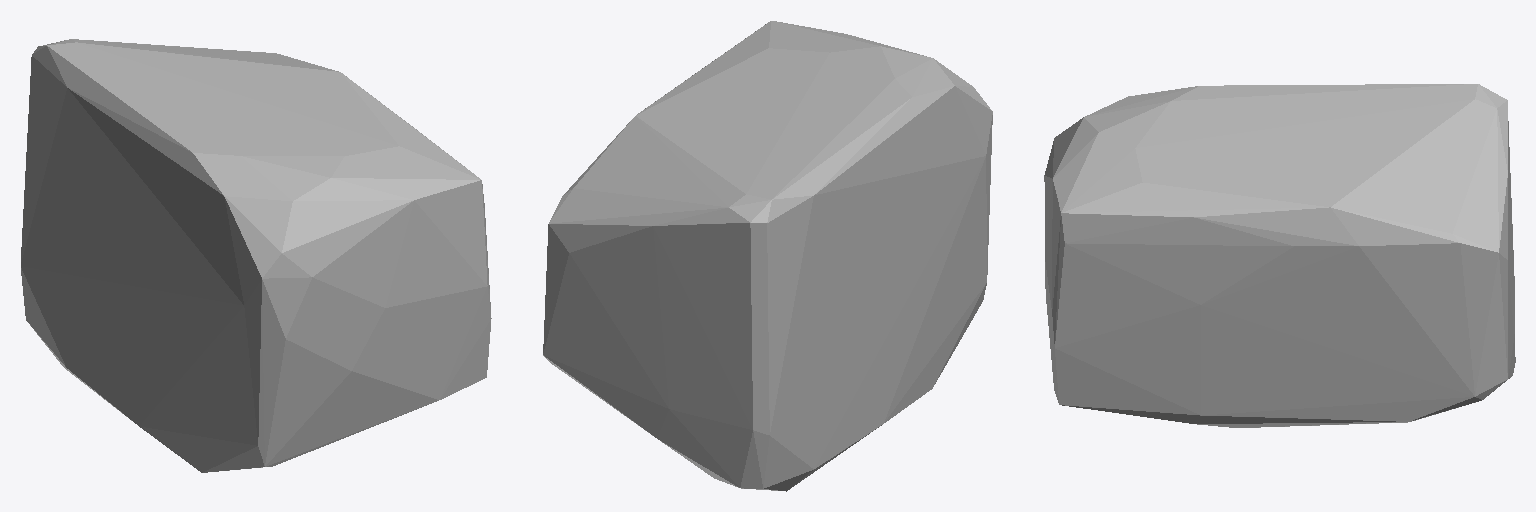
The robot description file, URDF, robot "root":
<robot name="root">
  <link name="link_rock2_convex_piece_0">
    <inertial>
      <origin rpy="0 0 0" xyz="0 0 0"/>
      <mass value="4.07E+06"/>
      <inertia ixx="2.23E+10" ixy="-9.84E+08" ixz="-1.16E+09" iyy="1.45E+10" iyz="1.47E+09" izz="2.29E+10"/>
    </inertial>
    <visual>
      <origin rpy="0 0 0" xyz="0 0 0"/>
      <geometry>
        <mesh filename="rock2_convex_piece_0.obj" scale="1.0000E+00 1.0000E+00 1.0000E+00"/>
      </geometry>
      <material name="">
        <color rgba="7.50E-01 7.50E-01 7.50E-01 1"/>
      </material>
    </visual>
    <collision>
      <origin rpy="0 0 0" xyz="0 0 0"/>
      <geometry>
        <mesh filename="rock2_convex_piece_0.obj" scale="1.0000E+00 1.0000E+00 1.0000E+00"/>
      </geometry>
    </collision>
  </link>
</robot>

--- Render facts (derived) ---
3 views of the same robot in one strip: view 1: azimuth 30°, elevation 25°; view 2: azimuth 150°, elevation 25°; view 3: azimuth 270°, elevation 25° (orthographic).
Robot: root — 1 links, 0 joints (none); root link link_rock2_convex_piece_0; default pose: all joints at 0.
Visible links, largest first — view 1: link_rock2_convex_piece_0; view 2: link_rock2_convex_piece_0; view 3: link_rock2_convex_piece_0.
Link boxes in pixels (box(x1,y1,x2,y2)): link_rock2_convex_piece_0: box(21, 39, 491, 472); link_rock2_convex_piece_0: box(543, 21, 992, 491); link_rock2_convex_piece_0: box(1044, 84, 1515, 427).
Size in the robot's own frame: 135 by 236 by 165 metres.
Meshes: 1 distinct files referenced, 1 mesh visuals loaded (1 OBJ).